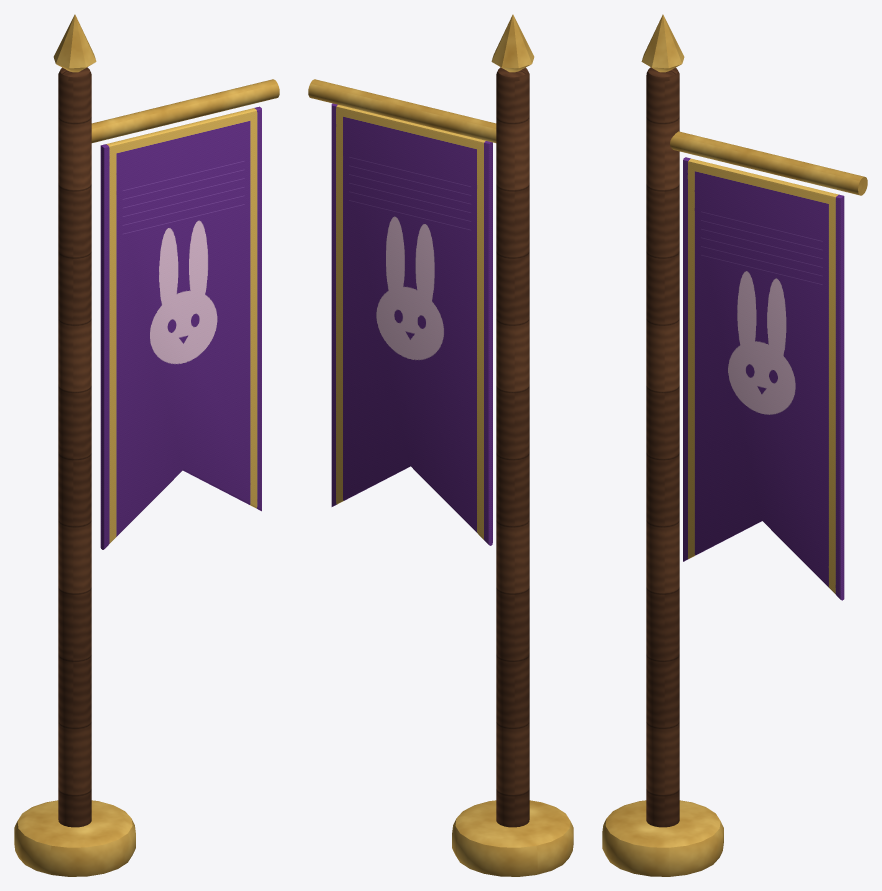
File: GIN_UG_Banner.fbx
3 views of the same model, side by side, from view 1: azimuth 30°, elevation 25°; view 2: azimuth 150°, elevation 25°; view 3: azimuth 330°, elevation 25° (orthographic).
Visible parts, largest first — view 1: GIN_UG_Banner; view 2: GIN_UG_Banner; view 3: GIN_UG_Banner.
Part boxes in pixels (left/top/right/bottom): GIN_UG_Banner: left=14, top=14, right=279, bottom=876; GIN_UG_Banner: left=308, top=14, right=573, bottom=876; GIN_UG_Banner: left=602, top=14, right=867, bottom=876.
Bounding box in the file's own units: 1.05 × 3.34 × 0.44.
